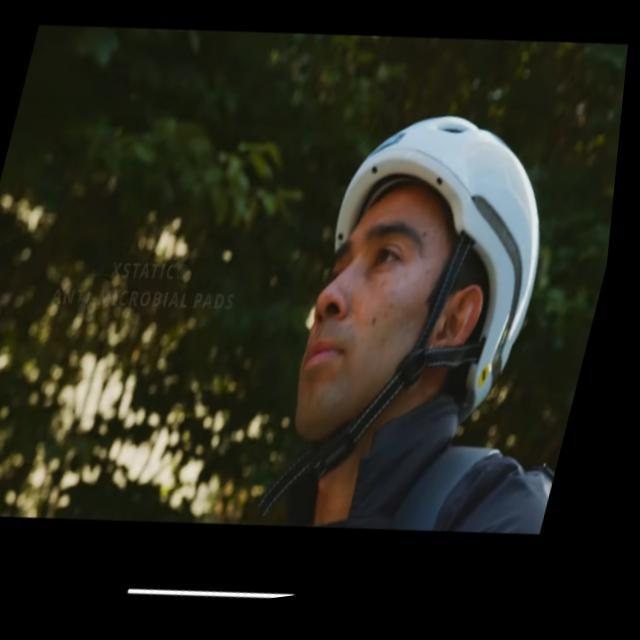Helmet: (286, 112, 543, 448)
